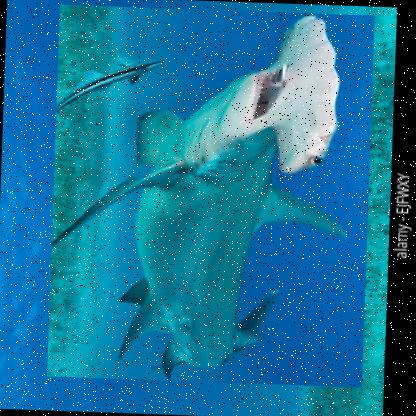hammerhead_Shark: (47, 2, 376, 387)
